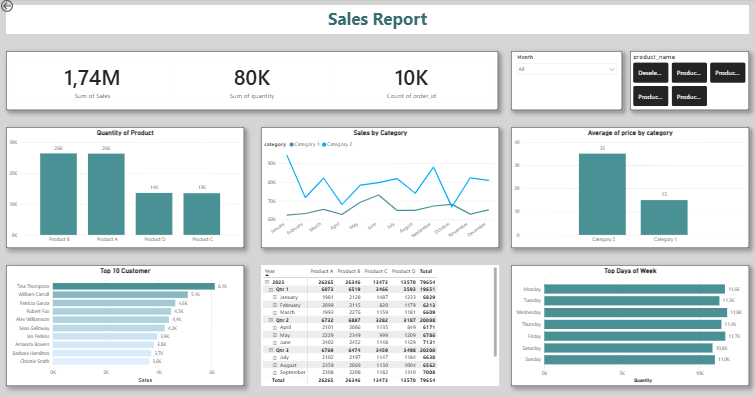

Layout of this report page (visuals, bound fields, positions):
{"tool":"powerbi","page":{"name":"Sales Dashboard","canvas":[1920,1020],"ordinal":0},"visuals":[{"type":"lineChart","title":"Sales by Category","fields":{"Series":["combined_sales_data (1).category"],"Category":["combined_sales_data (1).order_date.Variation.Date Hierarchy.Year","combined_sales_data (1).order_date.Variation.Date Hierarchy.Quarter","combined_sales_data (1).order_date.Variation.Date Hierarchy.Month","combined_sales_data (1).order_date.Variation.Date Hierarchy.Day"],"Y":["Sum(combined_sales_data (1).Sales)"]},"box":[660.2,325,599.7,304.9],"z":0},{"type":"clusteredBarChart","title":"Top 10 Customer","fields":{"Category":["combined_sales_data (1).customer_name"],"Y":["Sum(combined_sales_data (1).Sales)"]},"box":[17.6,672.8,599.7,304.9],"z":1000},{"type":"textbox","box":[17.6,17.6,1872.1,73.1],"z":2000},{"type":"clusteredColumnChart","title":"Quantity of Product","fields":{"Category":["combined_sales_data (1).product_name"],"Y":["Sum(combined_sales_data (1).quantity)"]},"box":[17.6,325,599.7,304.9],"z":3000},{"type":"clusteredColumnChart","fields":{"Category":["combined_sales_data (1).category"],"Y":["Avg(combined_sales_data (1).price)"]},"box":[1290.1,325,599.7,304.9],"z":4000},{"type":"pivotTable","fields":{"Rows":["combined_sales_data (1).order_date.Variation.Date Hierarchy.Year","combined_sales_data (1).order_date.Variation.Date Hierarchy.Quarter","combined_sales_data (1).order_date.Variation.Date Hierarchy.Month","combined_sales_data (1).order_date.Variation.Date Hierarchy.Day"],"Columns":["combined_sales_data (1).product_name"],"Values":["Sum(combined_sales_data (1).quantity)"]},"box":[660.2,672.8,599.7,304.9],"z":5000},{"type":"actionButton","box":[0,0,100,40],"z":6000},{"type":"clusteredBarChart","title":"Top Days of Week","fields":{"Category":["combined_sales_data (1).Day Name"],"Y":["Sum(combined_sales_data (1).quantity)"]},"box":[1290.1,672.8,599.7,304.9],"z":7000},{"type":"slicer","fields":{"Values":["combined_sales_data (1).order_date.Variation.Date Hierarchy.Month"]},"box":[1290.1,133.5,279.7,148.7],"z":8000},{"type":"cardVisual","fields":{"Data":["Sum(combined_sales_data (1).Sales)","Sum(combined_sales_data (1).quantity)","Count(combined_sales_data (1).order_id)"]},"box":[17.6,133.5,1239.7,148.7],"z":9000},{"type":"advancedSlicerVisual","fields":{"Values":["combined_sales_data (1).product_name"]},"box":[1589.9,133.5,299.8,148.7],"z":10000}]}

Visuals, with their boxes in screenshot pixels (x1, y1, x2, y2), scaled from the page's 1920x1020 canvas onto the 755x397 screenshot:
"Sales by Category" lineChart: select_region(260, 126, 495, 245)
"Top 10 Customer" clusteredBarChart: select_region(7, 262, 243, 381)
textbox: select_region(7, 7, 743, 35)
"Quantity of Product" clusteredColumnChart: select_region(7, 126, 243, 245)
clusteredColumnChart - combined_sales_data (1).category x Avg(combined_sales_data (1).price): select_region(507, 126, 743, 245)
pivotTable - combined_sales_data (1).order_date.Variation.Date Hierarchy.Year x combined_sales_data (1).order_date.Variation.Date Hierarchy.Quarter: select_region(260, 262, 495, 381)
actionButton: select_region(0, 0, 39, 16)
"Top Days of Week" clusteredBarChart: select_region(507, 262, 743, 381)
slicer - combined_sales_data (1).order_date.Variation.Date Hierarchy.Month: select_region(507, 52, 617, 110)
cardVisual - Sum(combined_sales_data (1).Sales) x Sum(combined_sales_data (1).quantity): select_region(7, 52, 494, 110)
advancedSlicerVisual - combined_sales_data (1).product_name: select_region(625, 52, 743, 110)
